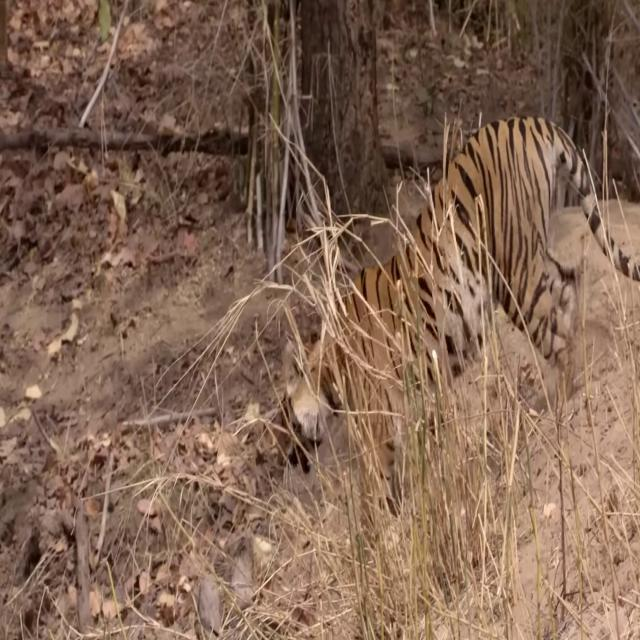tiger: (275, 116, 640, 504)
